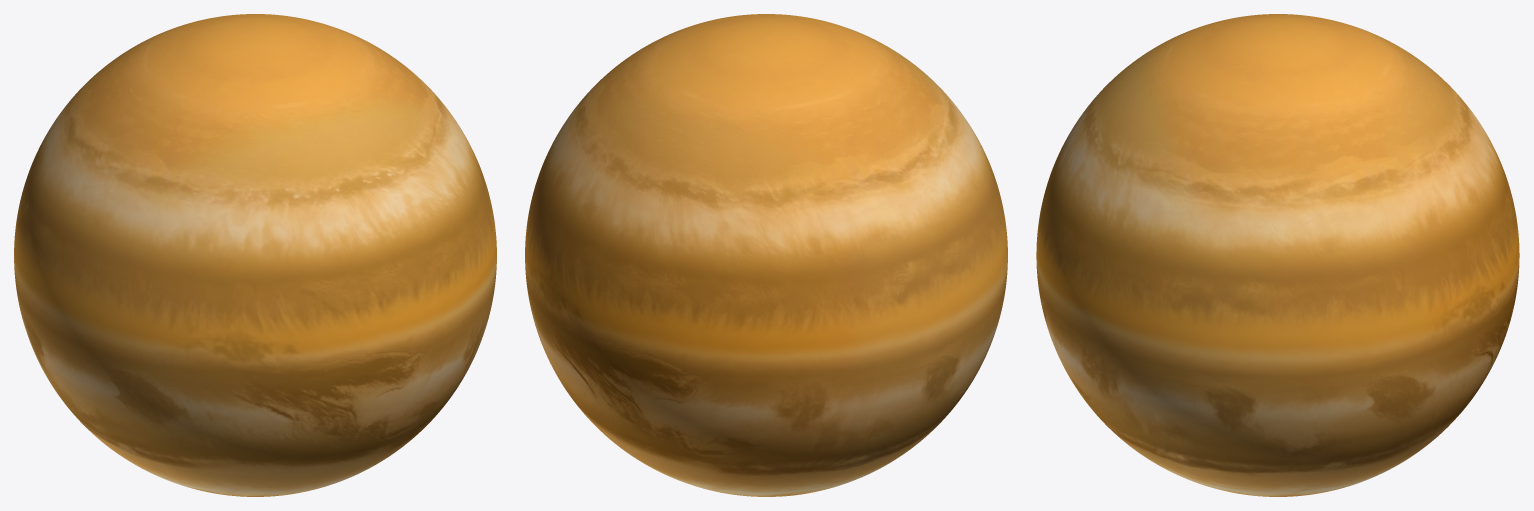
Rendered from venus.glb.
3 views of the same model, side by side, from view 1: azimuth 30°, elevation 25°; view 2: azimuth 150°, elevation 25°; view 3: azimuth 270°, elevation 25° (orthographic).
Size of the model in its own units: 1.9 by 1.9 by 1.9.
Materials: 1 (1 with a texture image).
